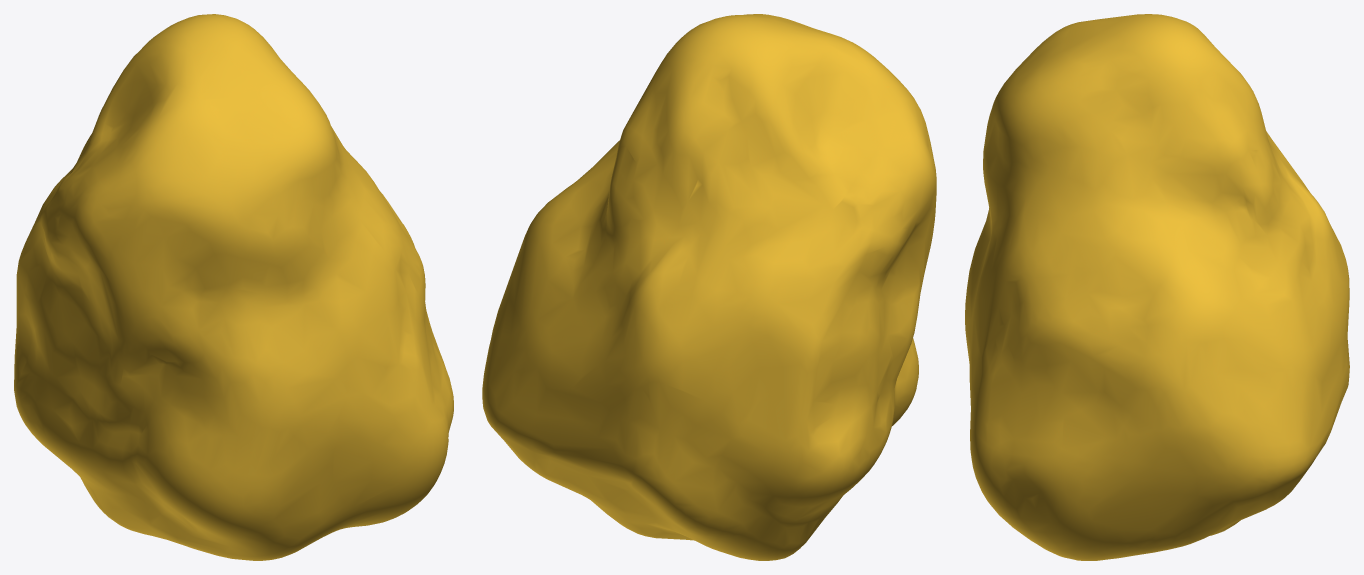
The model's file is untitl23ed.glb.
3 views of the same model, side by side, from view 1: azimuth 30°, elevation 25°; view 2: azimuth 150°, elevation 25°; view 3: azimuth 270°, elevation 25° (orthographic). The views are drawn at different scales.
Visible parts, largest first — view 1: Quad Sphere; view 2: Quad Sphere; view 3: Quad Sphere.
Part boxes in pixels (x1,y1,x2,y2): Quad Sphere: [14, 14, 453, 560]; Quad Sphere: [482, 14, 936, 560]; Quad Sphere: [965, 14, 1349, 560].
Bounding box in the file's own units: 2.11 × 2.76 × 1.95.
Materials: 2 (2 with a texture image).
